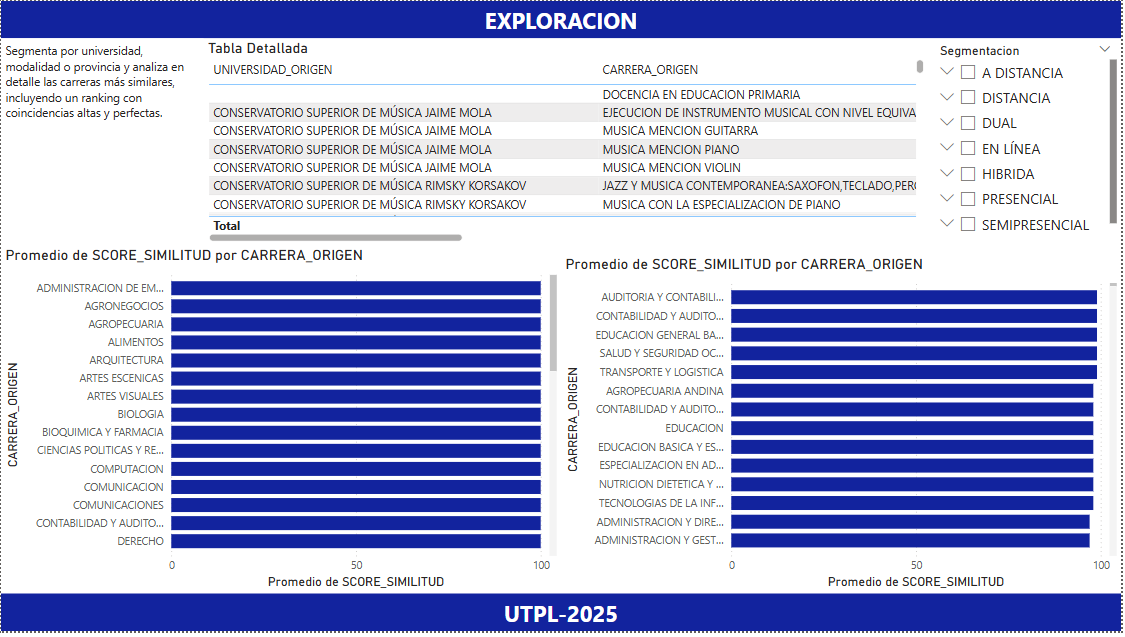

Layout of this report page (visuals, bound fields, positions):
{"tool":"powerbi","page":{"name":"Exploracion","canvas":[1280,720],"ordinal":1},"visuals":[{"type":"slicer","fields":{"Values":["Sheet1.MODALIDAD","Sheet1.PROVINCIA","Sheet1.TIPO_FINANCIAMIENTO","Sheet1.ESTADO","Sheet1.UNIVERSIDAD_ORIGEN"]},"box":[1060,42.9,220,237.1],"z":0},{"type":"tableEx","title":"Tabla Detallada","fields":{"Values":["Sheet1.UNIVERSIDAD_ORIGEN","Sheet1.CARRERA_ORIGEN","Sheet1.CARRERA_SIMILAR_UTPL","Sheet1.SCORE_SIMILITUD","Sheet1.MODALIDAD","Sheet1.PROVINCIA","Sheet1.ESTADO"]},"box":[231.4,42.9,828.6,237.1],"z":1000},{"type":"clusteredBarChart","fields":{"Category":["Sheet1.CARRERA_ORIGEN"],"Y":["Sheet1.SCORE_SIMILITUD"]},"box":[0,280,640,397.1],"z":2000},{"type":"clusteredBarChart","fields":{"Y":["Sheet1.SCORE_SIMILITUD"],"Category":["Sheet1.CARRERA_ORIGEN"]},"box":[640,290,640,387.1],"z":3000},{"type":"shape","box":[0,0,1280.3,42.5],"z":4000},{"type":"shape","box":[0,677.1,1280,42.9],"z":5000},{"type":"textbox","box":[0,42.9,231.4,237.1],"z":6000}]}

Visuals, with their boxes in screenshot pixels (x1, y1, x2, y2), scaled from the page's 1280x720 canvas onto the 1125x637 screenshot:
slicer - Sheet1.MODALIDAD x Sheet1.PROVINCIA: x1=932 y1=38 x2=1124 y2=248
"Tabla Detallada" tableEx: x1=203 y1=38 x2=932 y2=248
clusteredBarChart - Sheet1.CARRERA_ORIGEN x Sheet1.SCORE_SIMILITUD: x1=0 y1=248 x2=562 y2=599
clusteredBarChart - Sheet1.SCORE_SIMILITUD x Sheet1.CARRERA_ORIGEN: x1=562 y1=257 x2=1124 y2=599
shape: x1=0 y1=0 x2=1124 y2=38
shape: x1=0 y1=599 x2=1124 y2=636
textbox: x1=0 y1=38 x2=203 y2=248
